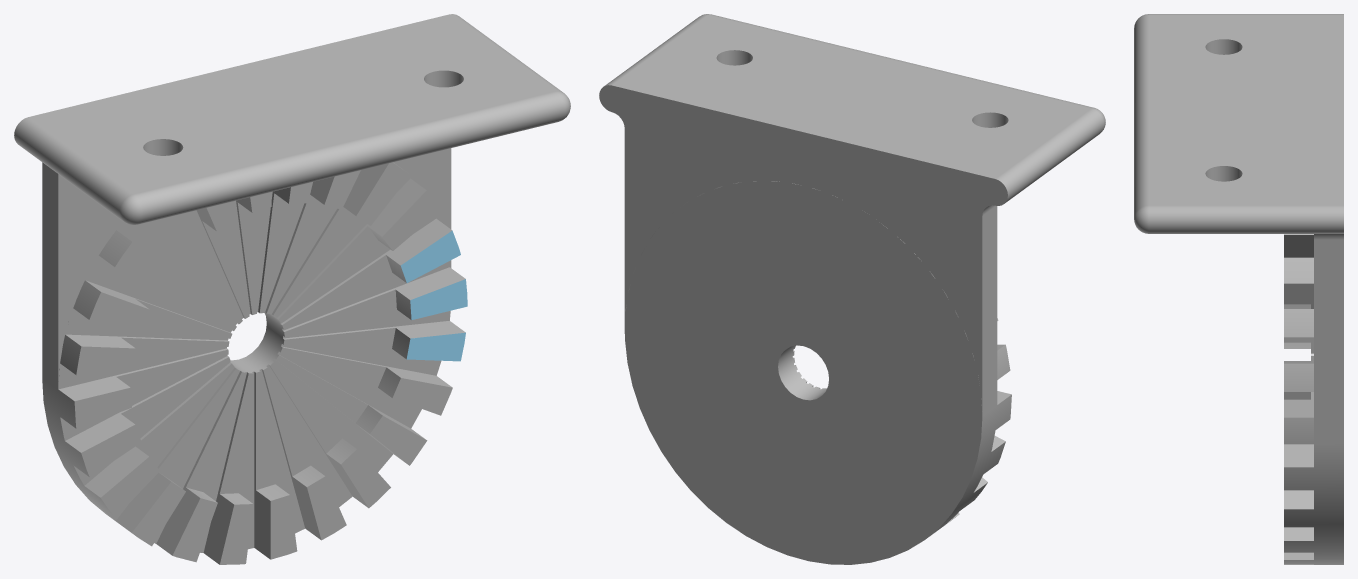
File: centro_2 - copia.glb
3 views of the same model, side by side, from view 1: azimuth 30°, elevation 25°; view 2: azimuth 150°, elevation 25°; view 3: azimuth 270°, elevation 25° (orthographic). The views are drawn at different scales.
Parts seen in each view (by area): view 1: Centro_2; view 2: Centro_2; view 3: Centro_2.
Part boxes in pixels (x1,y1,x2,y2): Centro_2: (14, 14, 570, 564); Centro_2: (599, 14, 1105, 564); Centro_2: (1134, 14, 1343, 564).
Size of the model in its own units: 0.08 by 0.08 by 0.035.
